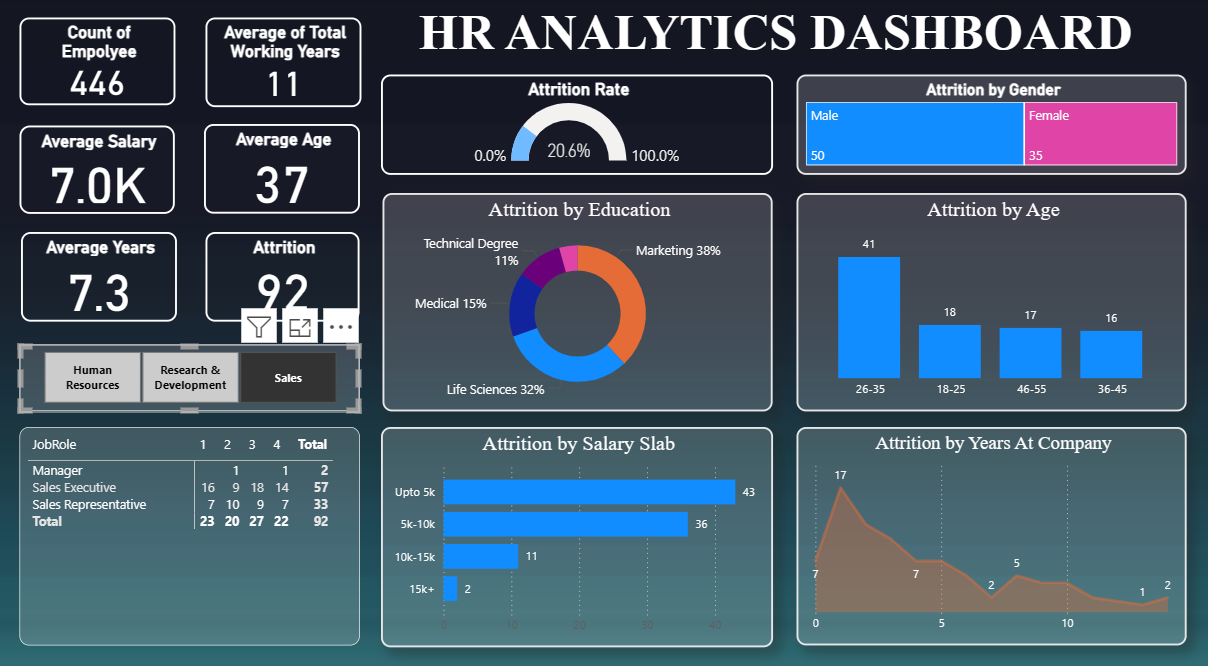

Layout of this report page (visuals, bound fields, positions):
{"tool":"powerbi","page":{"name":"Page 1","canvas":[1280,717],"ordinal":0},"visuals":[{"type":"card","title":"Count of  Empolyee","fields":{"Values":["CountNonNull(HR_Analytics.EmpID)"]},"box":[20.8,20.8,164.4,92.6],"z":0},{"type":"textbox","box":[381.7,0,875,85],"z":1000},{"type":"gauge","title":"Attrition  Rate","fields":{"Y":["HR_Analytics.AttritionRate"]},"box":[402.5,81.3,413.9,105.8],"z":2000},{"type":"card","title":"Attrition","fields":{"Values":["Sum(HR_Analytics.AttritionCount)"]},"box":[217.3,247.6,162.5,94.5],"z":3000},{"type":"card","title":"Average Age","fields":{"Values":["Avg(HR_Analytics.Age)"]},"box":[215.4,132.3,164.4,94.5],"z":4000},{"type":"card","title":"Average Years","fields":{"Values":["Avg(HR_Analytics.YearsAtCompany)"]},"box":[22.7,247.6,164.4,94.5],"z":5000},{"type":"card","title":"Average Salary","fields":{"Values":["Avg(HR_Analytics.MonthlyIncome)"]},"box":[20.8,134.2,164,93],"z":6000},{"type":"donutChart","title":"Attrition by Education","fields":{"Category":["HR_Analytics.EducationField"],"Y":["Sum(HR_Analytics.AttritionCount)"]},"box":[404.4,206,412,230.6],"z":7000},{"type":"columnChart","title":"Attrition by Age","fields":{"Category":["HR_Analytics.AgeGroup"],"Y":["Sum(HR_Analytics.AttritionCount)"]},"box":[841,206,412,230.6],"z":8000},{"type":"barChart","title":"Attrition by Salary Slab","fields":{"Category":["HR_Analytics.SalarySlab"],"Y":["Sum(HR_Analytics.AttritionCount)"]},"box":[402.5,453.5,413.9,232.4],"z":9000},{"type":"areaChart","title":"Attrition by Years At Company","fields":{"Category":["HR_Analytics.YearsAtCompany"],"Y":["Sum(HR_Analytics.AttritionCount)"]},"box":[841,453.5,412,230.6],"z":10000},{"type":"treemap","title":"Attrition by Gender","fields":{"Group":["HR_Analytics.Gender"],"Values":["Sum(HR_Analytics.AttritionCount)"]},"box":[841,81.3,412,105.8],"z":12000},{"type":"slicer","fields":{"Values":["HR_Analytics.Department"]},"box":[20.8,366.6,359.1,69.9],"z":13000},{"type":"pivotTable","fields":{"Rows":["HR_Analytics.JobRole"],"Columns":["HR_Analytics.JobSatisfaction"],"Values":["Sum(HR_Analytics.AttritionCount)"]},"box":[20.8,453.5,359.1,230.6],"z":14000},{"type":"card","title":"Average of Total Working Years","fields":{"Values":["Avg(HR_Analytics.TotalWorkingYears)"]},"box":[217.3,20.8,164.4,94.5],"z":15000}]}

Visuals, with their boxes in screenshot pixels (x1, y1, x2, y2), scaled from the page's 1280x717 canvas onto the 1208x666 screenshot:
"Count of  Empolyee" card: x1=20 y1=19 x2=175 y2=105
textbox: x1=360 y1=0 x2=1186 y2=79
"Attrition  Rate" gauge: x1=380 y1=76 x2=770 y2=174
"Attrition" card: x1=205 y1=230 x2=358 y2=318
"Average Age" card: x1=203 y1=123 x2=358 y2=211
"Average Years" card: x1=21 y1=230 x2=177 y2=318
"Average Salary" card: x1=20 y1=125 x2=174 y2=211
"Attrition by Education" donutChart: x1=382 y1=191 x2=770 y2=406
"Attrition by Age" columnChart: x1=794 y1=191 x2=1183 y2=406
"Attrition by Salary Slab" barChart: x1=380 y1=421 x2=770 y2=637
"Attrition by Years At Company" areaChart: x1=794 y1=421 x2=1183 y2=635
"Attrition by Gender" treemap: x1=794 y1=76 x2=1183 y2=174
slicer - HR_Analytics.Department: x1=20 y1=341 x2=359 y2=405
pivotTable - HR_Analytics.JobRole x HR_Analytics.JobSatisfaction: x1=20 y1=421 x2=359 y2=635
"Average of Total Working Years" card: x1=205 y1=19 x2=360 y2=107
